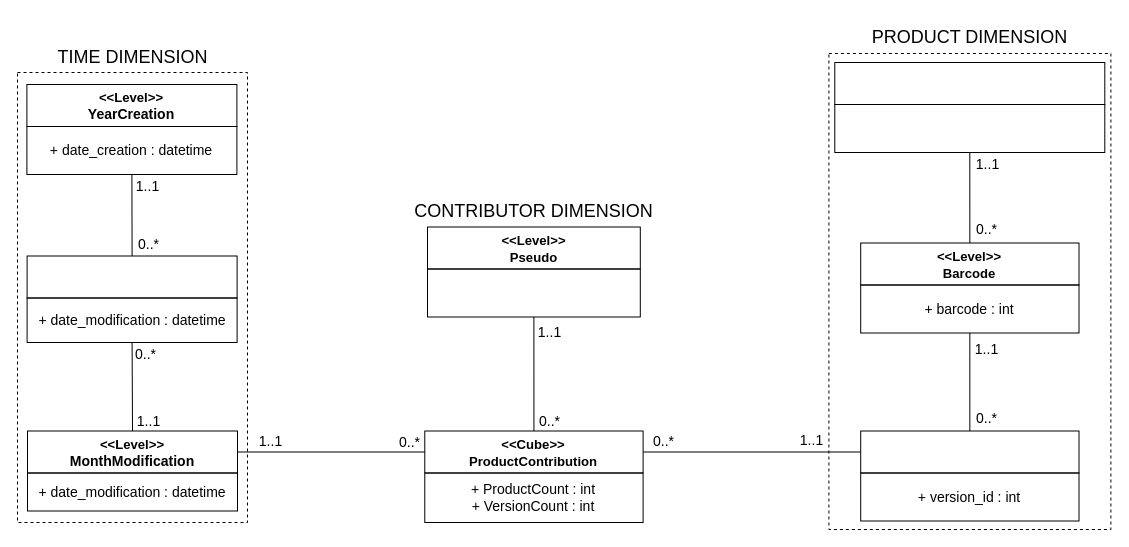
This 1129x547 diagram has some shape labels left out. Here are the shapes that lost their labels. From the top down, the centre of each, then its label:
At pixel 969 83: "<<Level>> NutriScorePresence".
At pixel 969 128: "+ nutriscore_presence : java.lang.String".
At pixel 131 276: "<<Level>> YearModification".
At pixel 533 292: "+ pseudo : java.lang.String".
At pixel 969 451: "<<Level>> ProductVersion".
